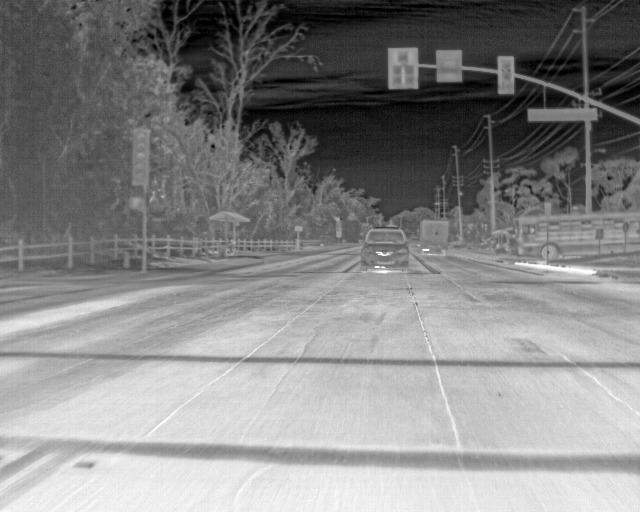car: (510, 212, 639, 262), (360, 227, 410, 273), (418, 219, 448, 255)
light: (135, 132, 147, 181), (502, 60, 510, 90), (392, 64, 402, 84), (405, 64, 414, 84), (130, 197, 141, 210), (397, 51, 408, 63)
sign: (436, 50, 462, 82), (528, 109, 597, 120), (544, 203, 551, 217), (596, 228, 604, 240), (623, 222, 629, 232), (336, 221, 342, 230), (294, 225, 302, 231), (337, 231, 341, 238)
